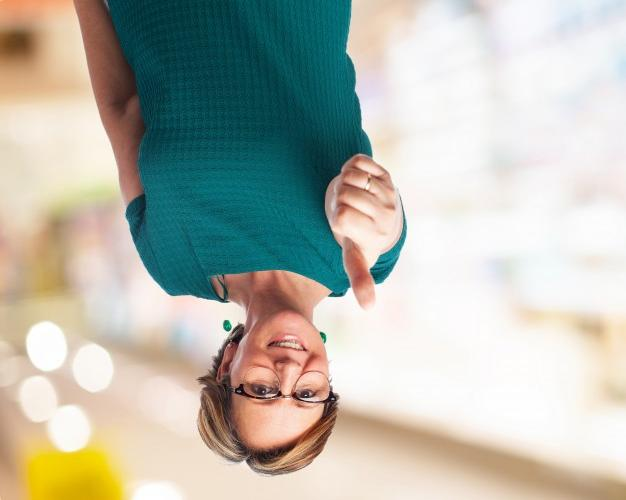thumbsdown: (330, 152, 398, 311)
